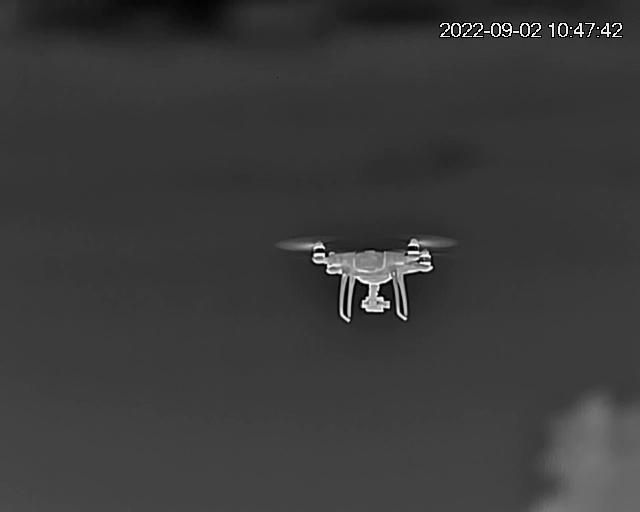DJI-Phantom: (273, 231, 462, 322)
